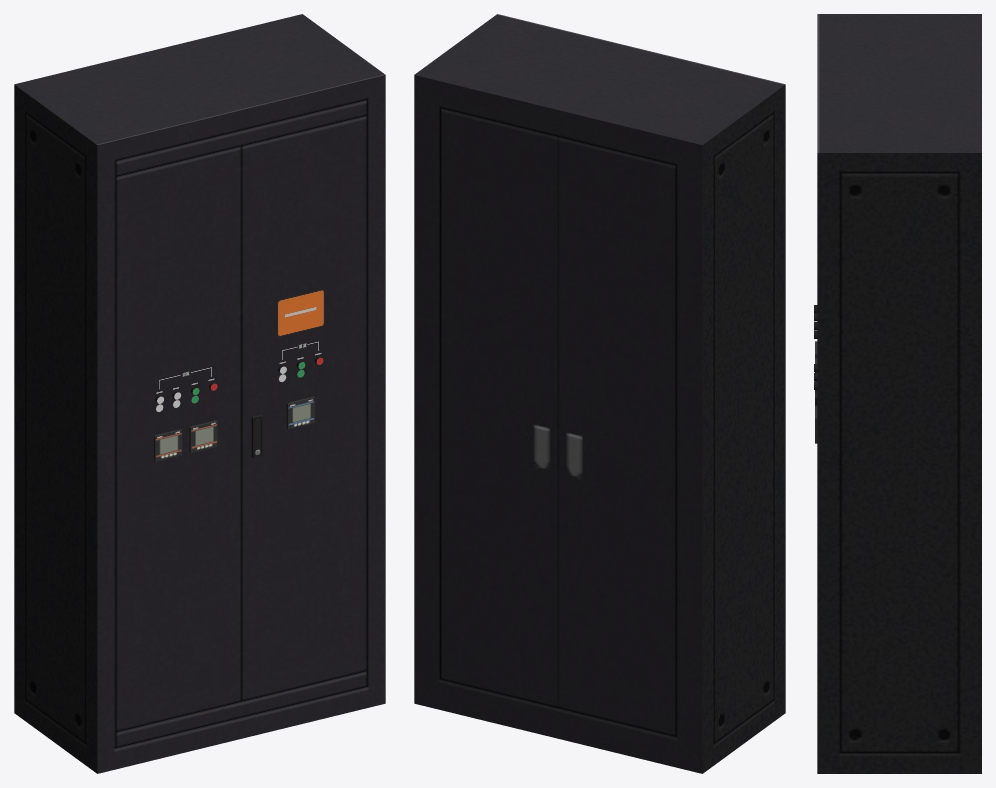
File: SPM.glb
The picture shows the model from 3 angles, left to right: view 1: azimuth 30°, elevation 25°; view 2: azimuth 150°, elevation 25°; view 3: azimuth 270°, elevation 25°; orthographic projection.
Visible parts, largest first — view 1: polySurface175_polySurface166; view 2: polySurface175_polySurface166; view 3: polySurface175_polySurface166.
Part boxes in pixels (bbox=[...]): polySurface175_polySurface166: bbox=[14, 14, 385, 773]; polySurface175_polySurface166: bbox=[414, 14, 785, 773]; polySurface175_polySurface166: bbox=[814, 14, 981, 773].
Size of the model in its own units: 12 by 25 by 6.12.
Materials: 1 (1 with a texture image).
